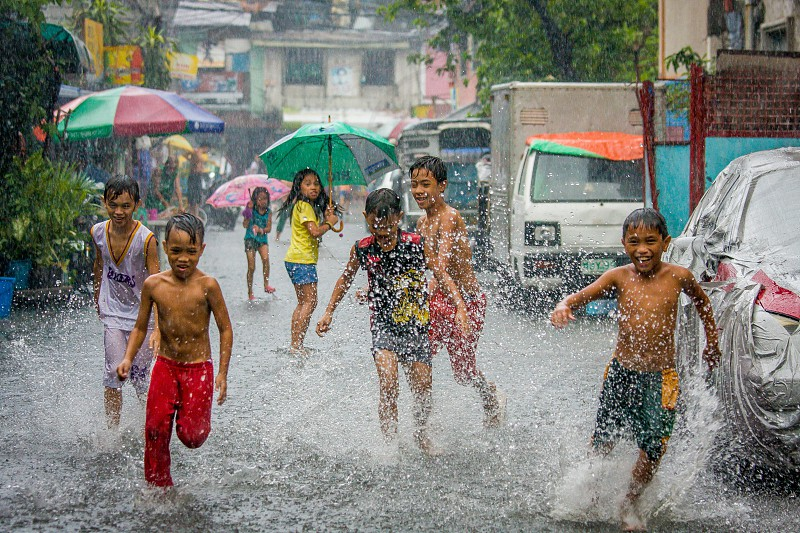Person: (546, 204, 723, 516), (320, 185, 455, 464), (131, 208, 229, 492), (79, 167, 158, 422), (280, 167, 341, 358), (232, 185, 291, 323)
